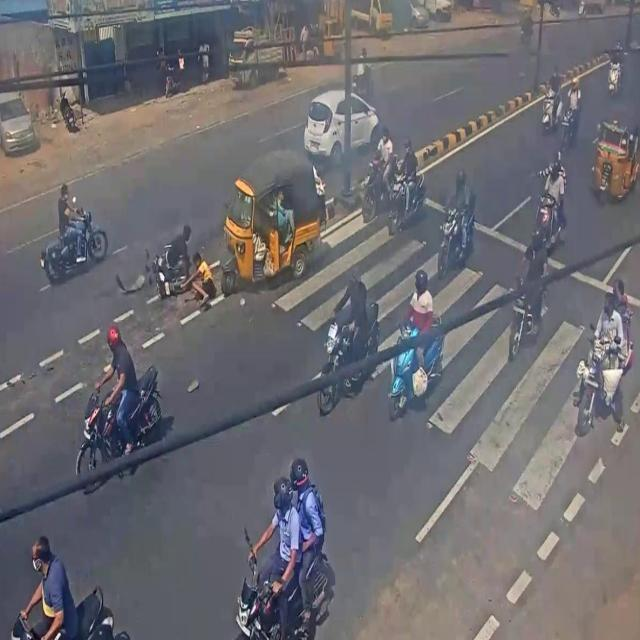accident: (112, 150, 328, 326)
